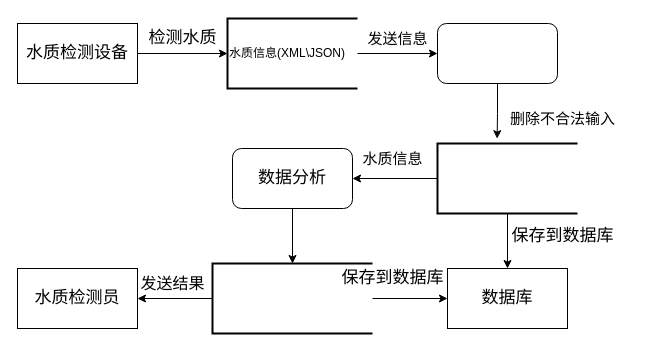
This 645x351 diagram has some shape labels left out. The box of each missing label's shape, as (x1, y1, x2, y2) in pixels:
数据清洗: (436, 22, 558, 84)
正确的水质信息: (436, 142, 578, 214)
水质分析结果: (211, 262, 373, 334)
